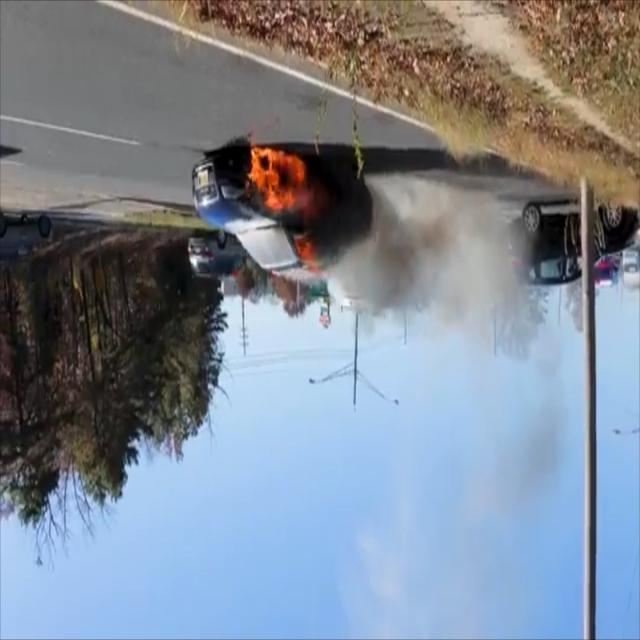fire: (250, 143, 316, 280)
